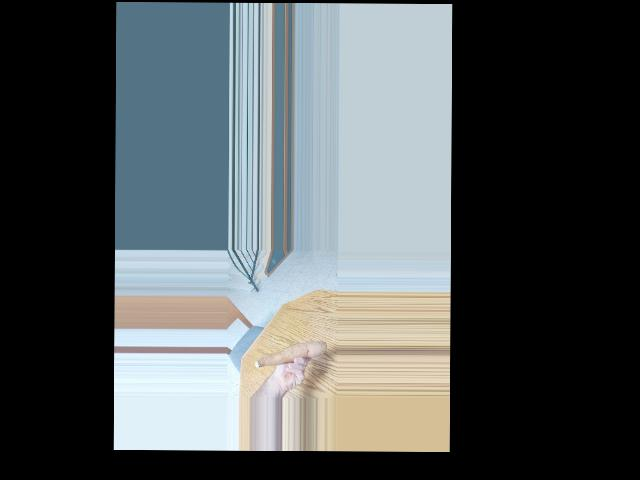sweet_potato: (254, 338, 325, 371)
